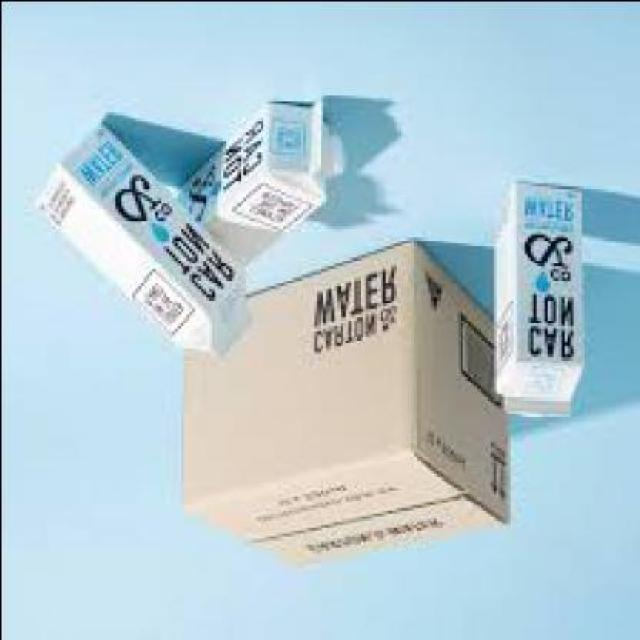CARDBOARD: (180, 245, 506, 569), (31, 121, 244, 362), (174, 97, 338, 271), (488, 182, 578, 418)
